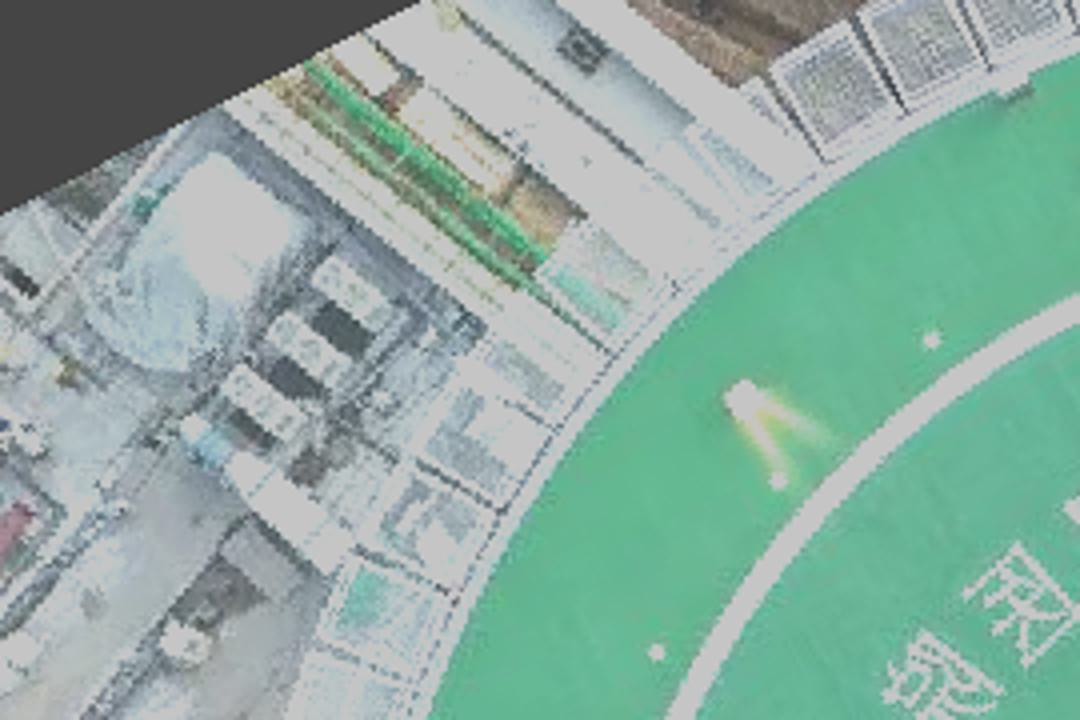Apron: (687, 270, 1080, 720)
